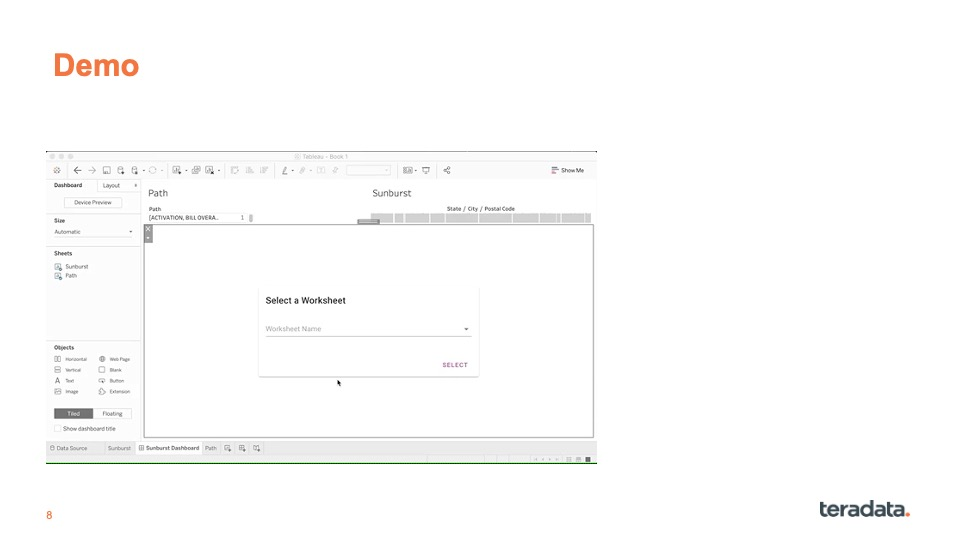

What the dashboard file says about the page in this screenshot:
{"tool":"tableau","page":{"name":"Sunburst","canvas":[1000,1000],"units":"permille","ordinal":1},"visuals":[{"type":"image","param":"/Users/fr186005/Desktop/320px-Teradata_logo_2018.png","box":[7.5,12.6,80.4,48.2]},{"type":"text","box":[87.9,12.6,848.5,48.2]},{"type":"worksheet","title":"Path","mark":"Automatic","rows":["Path"],"cols":["Cnt"],"box":[936.4,12.6,56.1,48.2]},{"type":"dashboard-object","param":"[com.teradata.tableau.extensions.sunburst].[0.1.0].[http://localhost:8080/sunbur","box":[7.5,60.8,985,926.6]}]}

Visuals, with their boxes on the dashboard's canvas, which has no fixed pixel size, in thousandths of its width and height (x1, y1, x2, y2). These are canvas units, not pixel positions in the 960x540 screenshot, which may show the page scaled, cropped or inside an application window:
image: [8, 13, 88, 61]
text: [88, 13, 936, 61]
"Path" worksheet: [936, 13, 992, 61]
dashboard-object: [8, 61, 992, 987]
